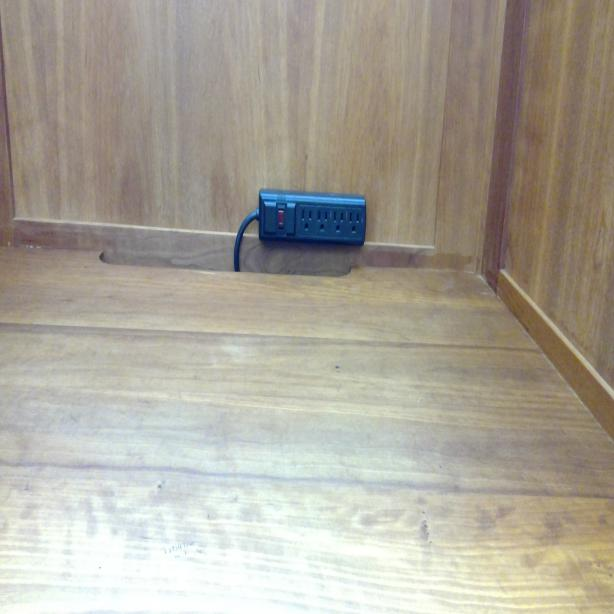typeb: (299, 204, 316, 234), (316, 205, 331, 237), (347, 206, 362, 236), (332, 206, 346, 236)
